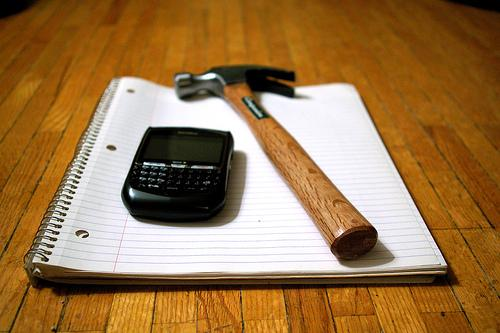hammer: (172, 61, 379, 261)
